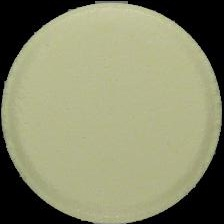0781-1008: (0, 0, 224, 224)
